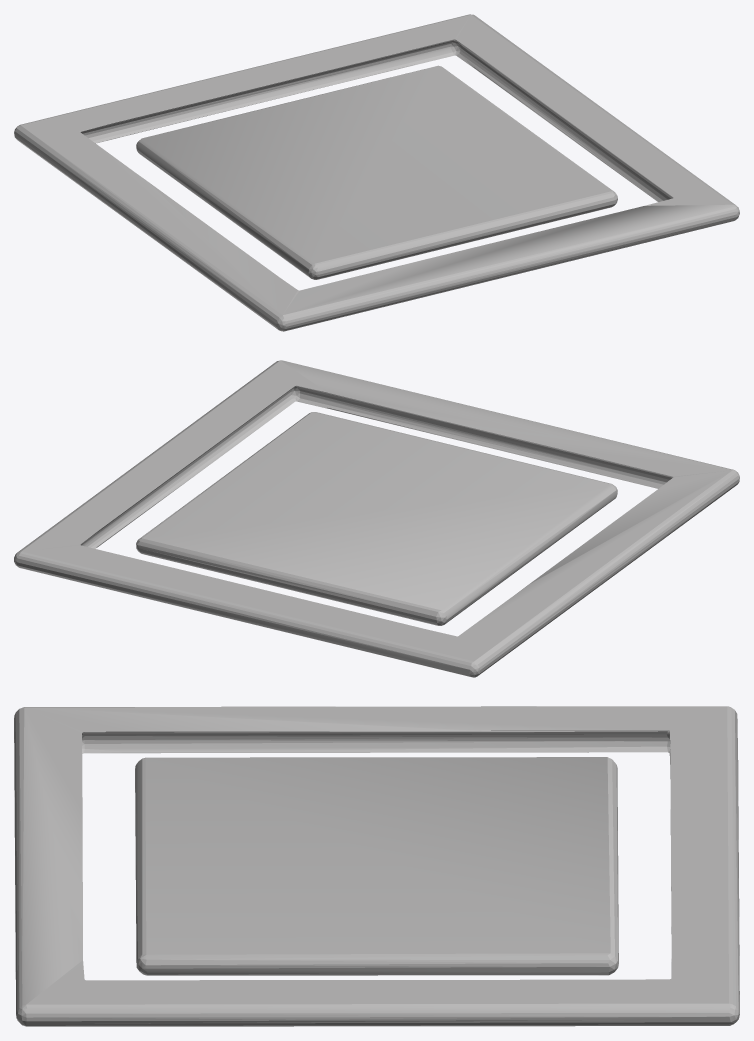
Rendered from infotafelbutton.obj.
The picture shows the model from 3 angles, top to bottom: view 1: azimuth 30°, elevation 25°; view 2: azimuth 150°, elevation 25°; view 3: azimuth 270°, elevation 25°; orthographic projection. The views are drawn at different scales.
Visible parts, largest first — view 1: 265775_23_05_05_07_52_36; view 2: 265775_23_05_05_07_52_36; view 3: 265775_23_05_05_07_52_36.
Part boxes in pixels (<box>): 265775_23_05_05_07_52_36: <box>14,14,739,331</box>; 265775_23_05_05_07_52_36: <box>14,360,739,677</box>; 265775_23_05_05_07_52_36: <box>14,706,739,1026</box>.
Bounding box in the file's own units: 1.2 × 0.04 × 1.2.
Materials: 1 (1 with a texture image).
